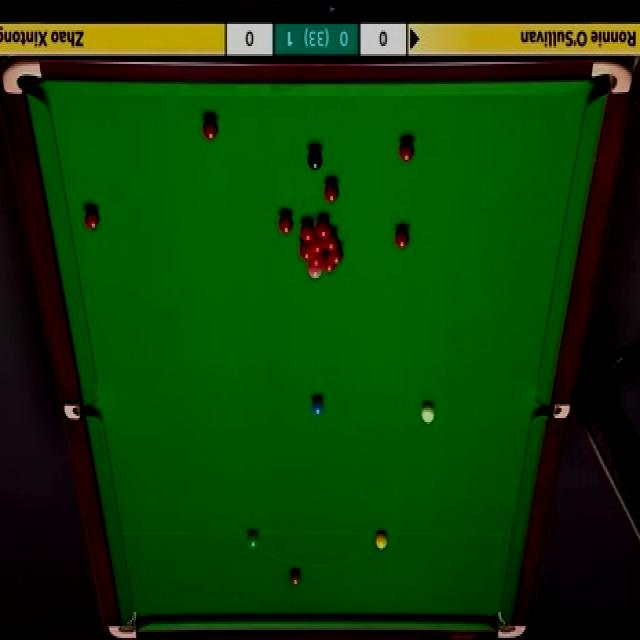pocket: (590, 58, 633, 97), (3, 57, 43, 98), (495, 606, 529, 640), (109, 608, 141, 640), (64, 398, 99, 418), (536, 404, 572, 418)
